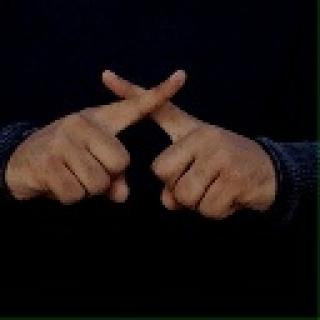X: (31, 64, 249, 216)
